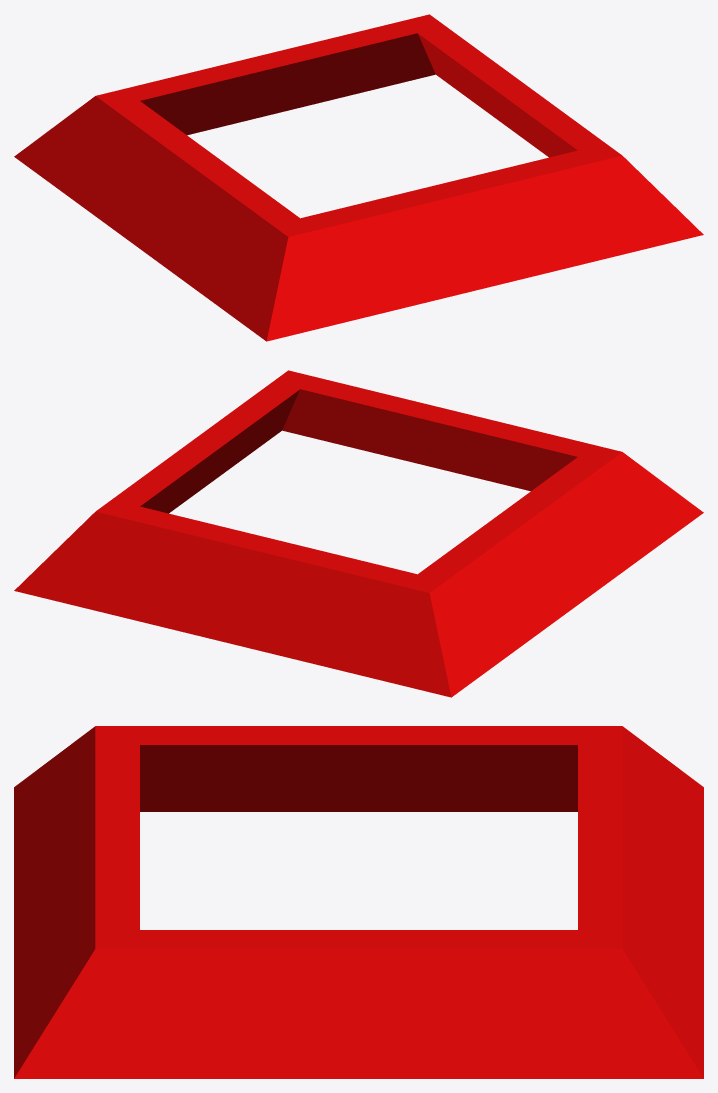
File: button.fbx
3 renders of one model, top to bottom at view 1: azimuth 30°, elevation 25°; view 2: azimuth 150°, elevation 25°; view 3: azimuth 270°, elevation 25°, orthographic. The views are drawn at different scales.
Parts seen in each view (by area): view 1: pasted__pCube1; view 2: pasted__pCube1; view 3: pasted__pCube1.
Part boxes in pixels (x1,y1,x2,y2): pasted__pCube1: (14,14,703,341); pasted__pCube1: (14,370,703,697); pasted__pCube1: (14,726,703,1078).
Size of the model in its own units: 0.0131 by 0.002 by 0.0131.
